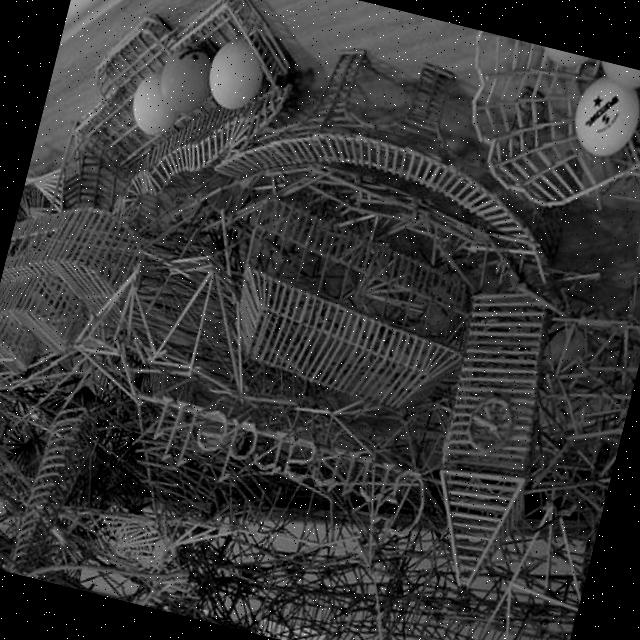ping-pong-ball: (563, 71, 640, 165), (200, 34, 270, 117), (154, 35, 220, 119), (122, 61, 186, 141)
